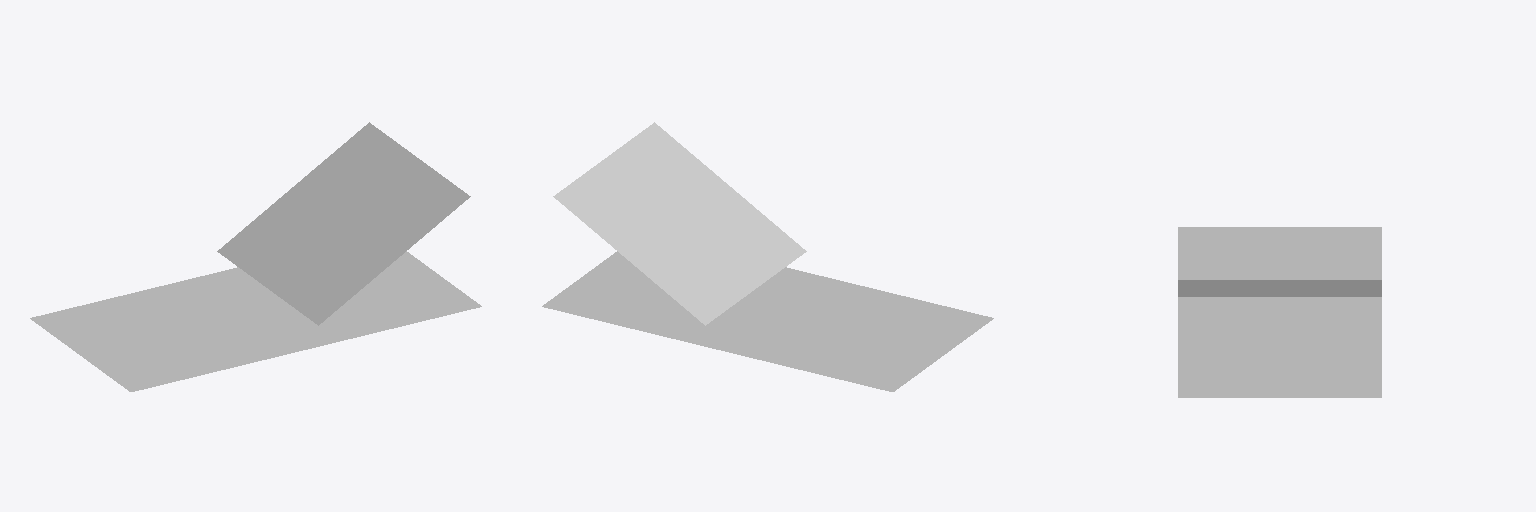
The model's file is par.obj.
The picture shows the model from 3 angles: view 1: azimuth 30°, elevation 25°; view 2: azimuth 150°, elevation 25°; view 3: azimuth 270°, elevation 25°; orthographic projection.
Visible parts, largest first — view 1: pPlane2, pPlane1; view 2: pPlane2, pPlane1; view 3: pPlane2, pPlane1.
Part boxes in pixels (x1,y1,x2,y2): pPlane2: (30,251,481,391); pPlane1: (217,122,470,325); pPlane2: (542,251,993,391); pPlane1: (553,122,806,325); pPlane2: (1178,227,1381,397); pPlane1: (1178,280,1381,296).
Bounding box in the file's own units: 10 × 3.07 × 5.